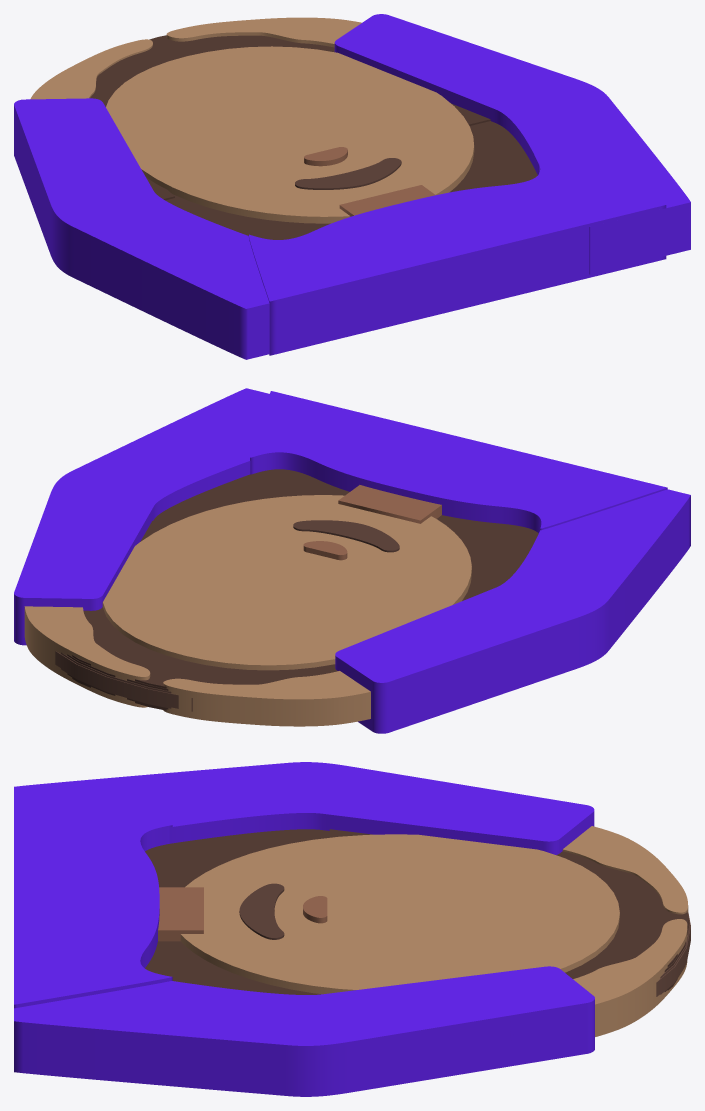
The model's file is emoji_u1f646_1f3fd_200d_2640.glb.
The picture shows the model from 3 angles, top to bottom: view 1: azimuth 30°, elevation 25°; view 2: azimuth 150°, elevation 25°; view 3: azimuth 270°, elevation 25°; orthographic projection. The views are drawn at different scales.
Visible parts, largest first — view 1: emoji_u1f646_1f3fd_200d_2640; view 2: emoji_u1f646_1f3fd_200d_2640; view 3: emoji_u1f646_1f3fd_200d_2640.
Part boxes in pixels (x1=…): emoji_u1f646_1f3fd_200d_2640: x1=14, y1=14, x2=690, y2=359; emoji_u1f646_1f3fd_200d_2640: x1=14, y1=388, x2=690, y2=733; emoji_u1f646_1f3fd_200d_2640: x1=14, y1=762, x2=690, y2=1096.
Size of the model in its own units: 0.0333 by 0.0032 by 0.0337.
